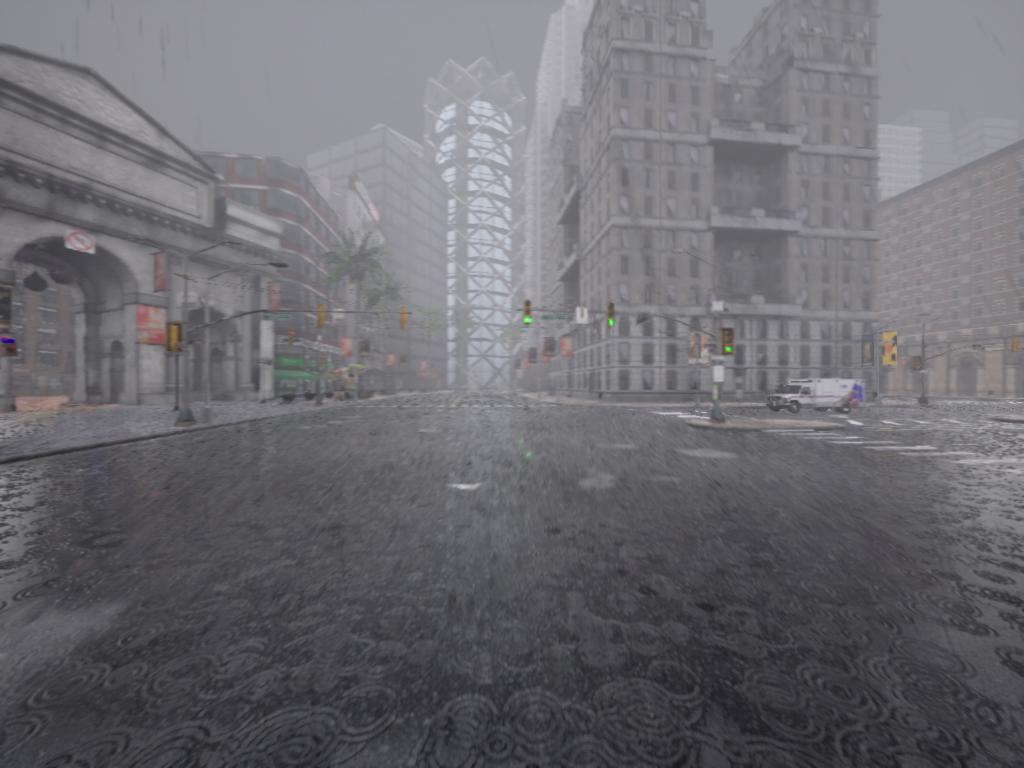traffic_light: (713, 331, 736, 361), (170, 323, 188, 353), (722, 330, 738, 359), (523, 303, 535, 327), (317, 307, 330, 329), (606, 305, 617, 329), (401, 310, 412, 333), (398, 310, 409, 332)
